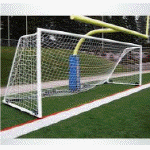goals: (2, 26, 145, 117)
